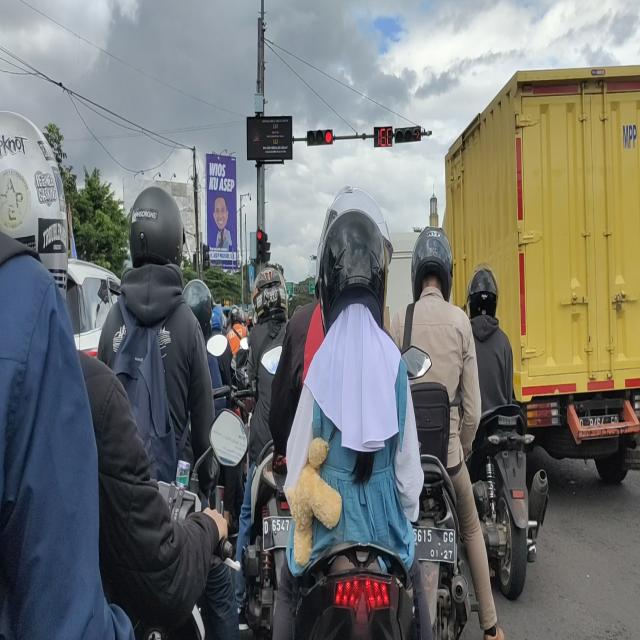helmet: (1, 106, 67, 294), (315, 218, 386, 326), (130, 184, 183, 268), (413, 229, 452, 301), (254, 271, 288, 330), (468, 263, 500, 321), (185, 282, 212, 338), (211, 302, 225, 335), (230, 302, 242, 324)
